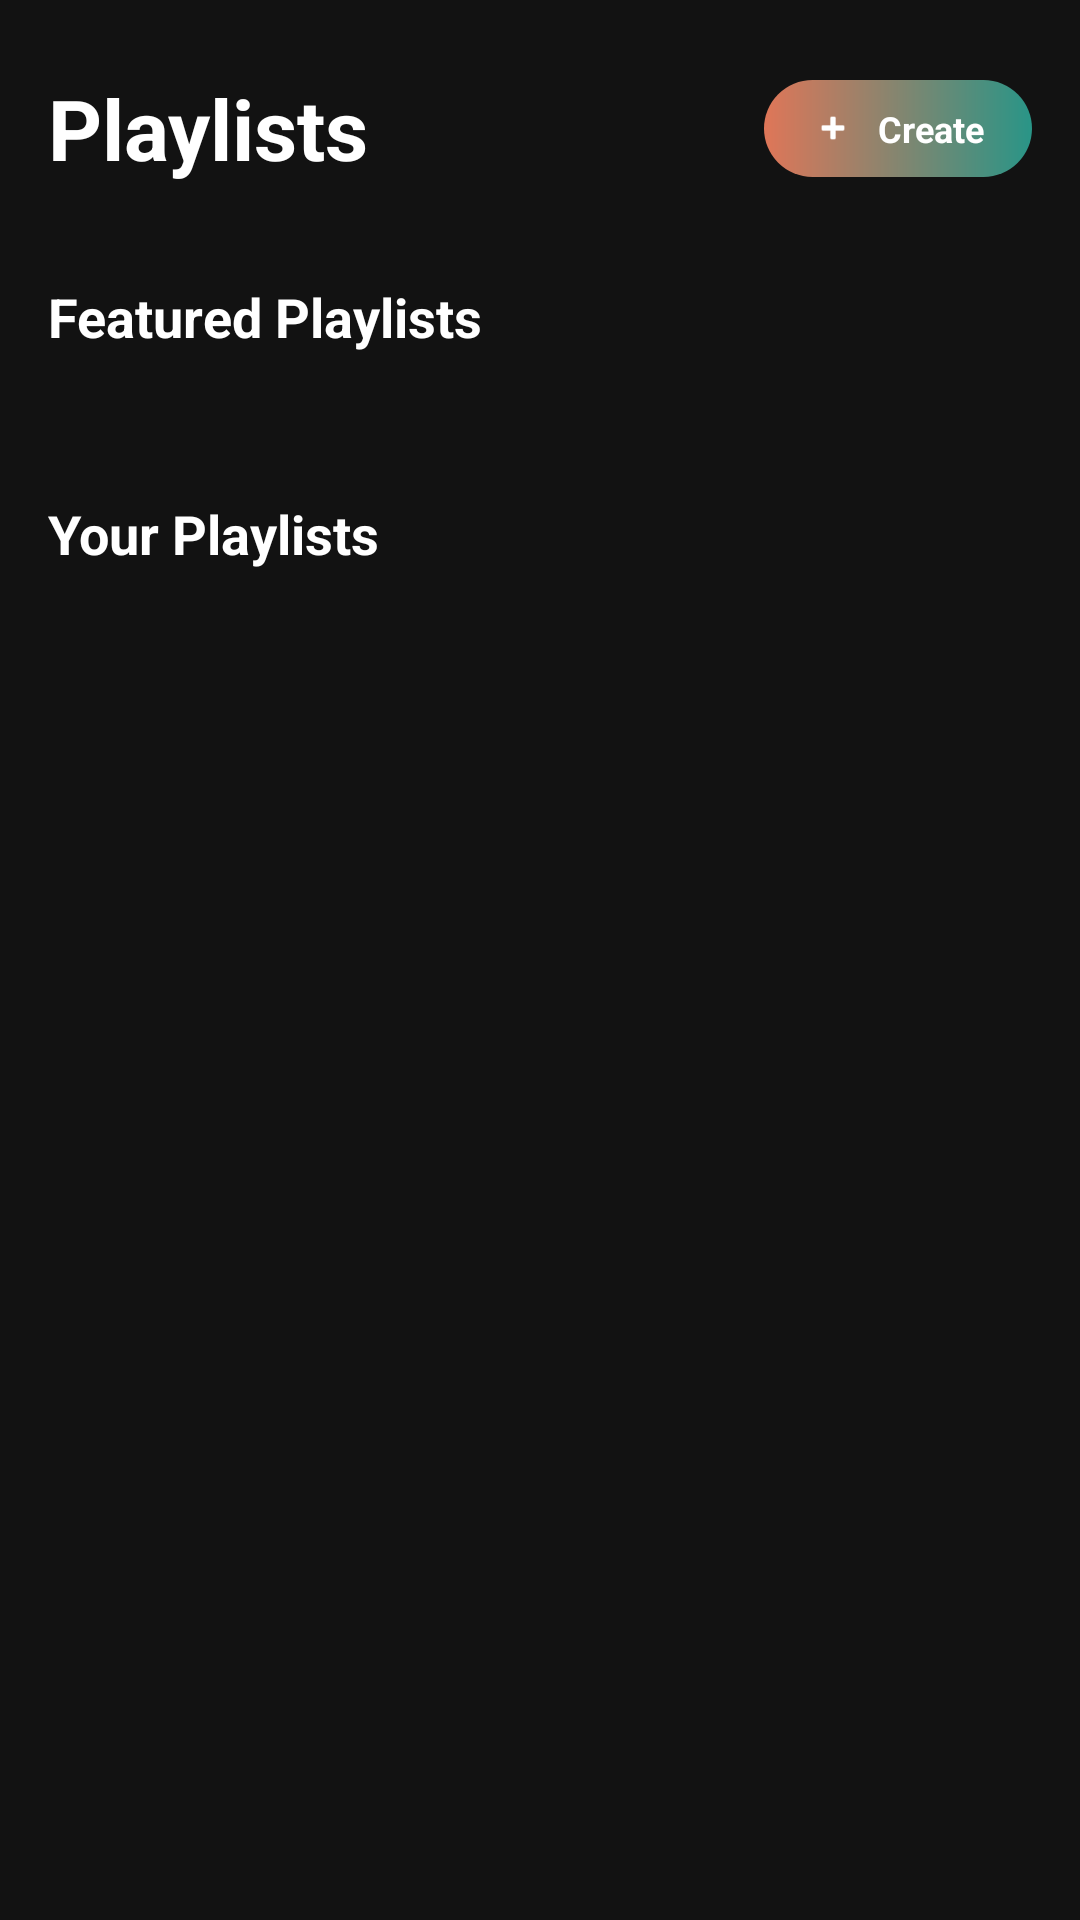

Locate icon controls on the screen. Image size 1080x1920, boxes as (x1, y1, x2, y2).
add: (812, 107, 845, 149)
